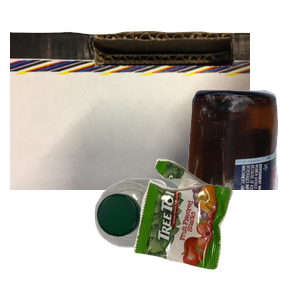cardboard: (10, 29, 250, 209)
glass: (87, 87, 300, 267)
plastic: (92, 176, 257, 300)
trash: (131, 156, 300, 300)
